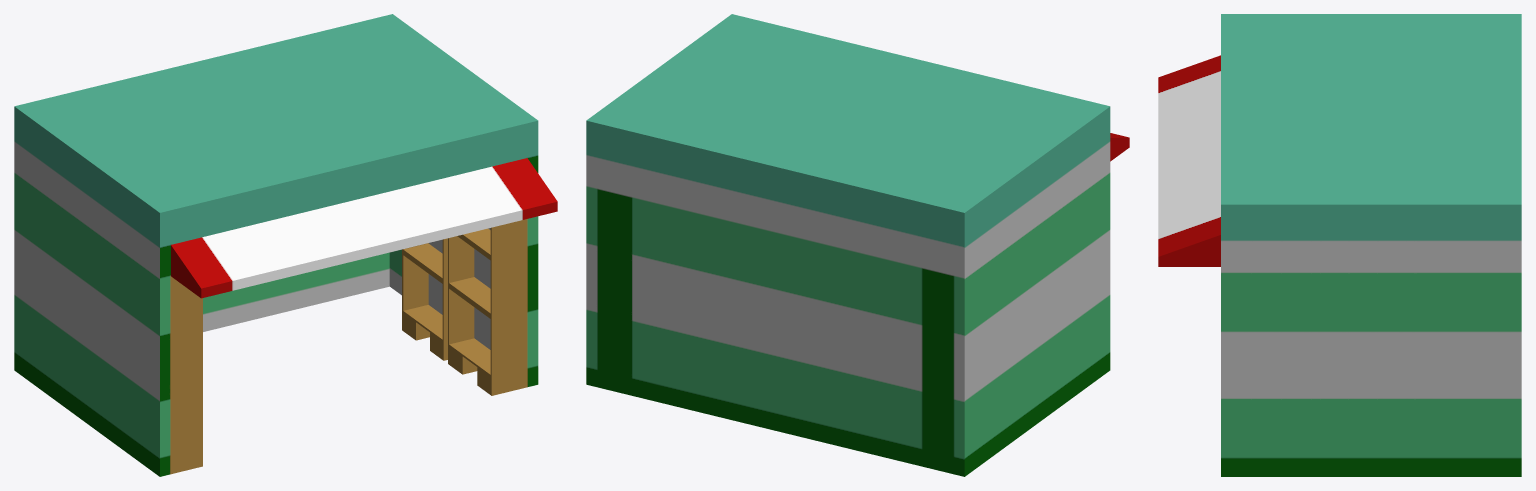
The model's file is Shopsshop2.fbx.
3 views of the same model, side by side, from view 1: azimuth 30°, elevation 25°; view 2: azimuth 150°, elevation 25°; view 3: azimuth 270°, elevation 25° (orthographic). The views are drawn at different scales.
Parts seen in each view (by area): view 1: shop2; view 2: shop2; view 3: shop2.
Part boxes in pixels (x1,y1,x2,y2): shop2: [14, 14, 557, 476]; shop2: [586, 14, 1129, 476]; shop2: [1158, 14, 1521, 476].
Bounding box in the file's own units: 3 × 2.42 × 2.
1 material, 1 textured.
